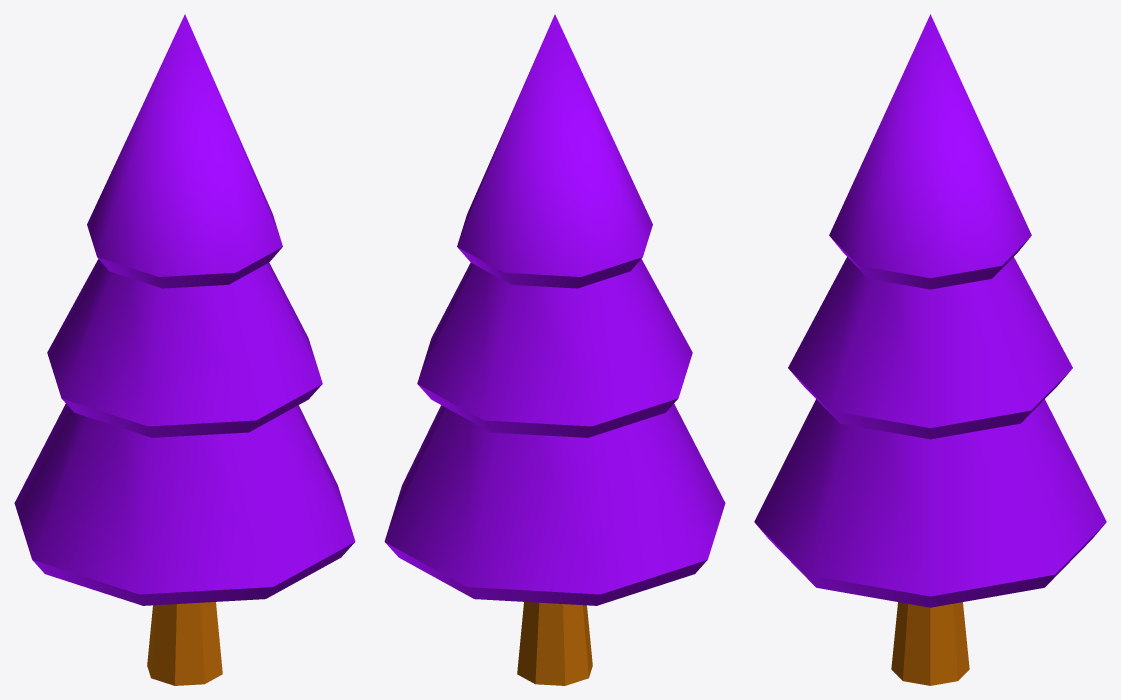
Rendered from Tree.fbx.
3 views of the same model, side by side, from view 1: azimuth 30°, elevation 25°; view 2: azimuth 150°, elevation 25°; view 3: azimuth 270°, elevation 25° (orthographic).
Visible parts, largest first — view 1: Tree; view 2: Tree; view 3: Tree.
Part boxes in pixels (x1=…): Tree: x1=14, y1=14, x2=355, y2=685; Tree: x1=384, y1=14, x2=725, y2=685; Tree: x1=754, y1=14, x2=1106, y2=685.
Bounding box in the file's own units: 3.88 × 7.96 × 3.88.
